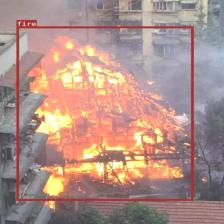fire: (16, 26, 193, 200)
